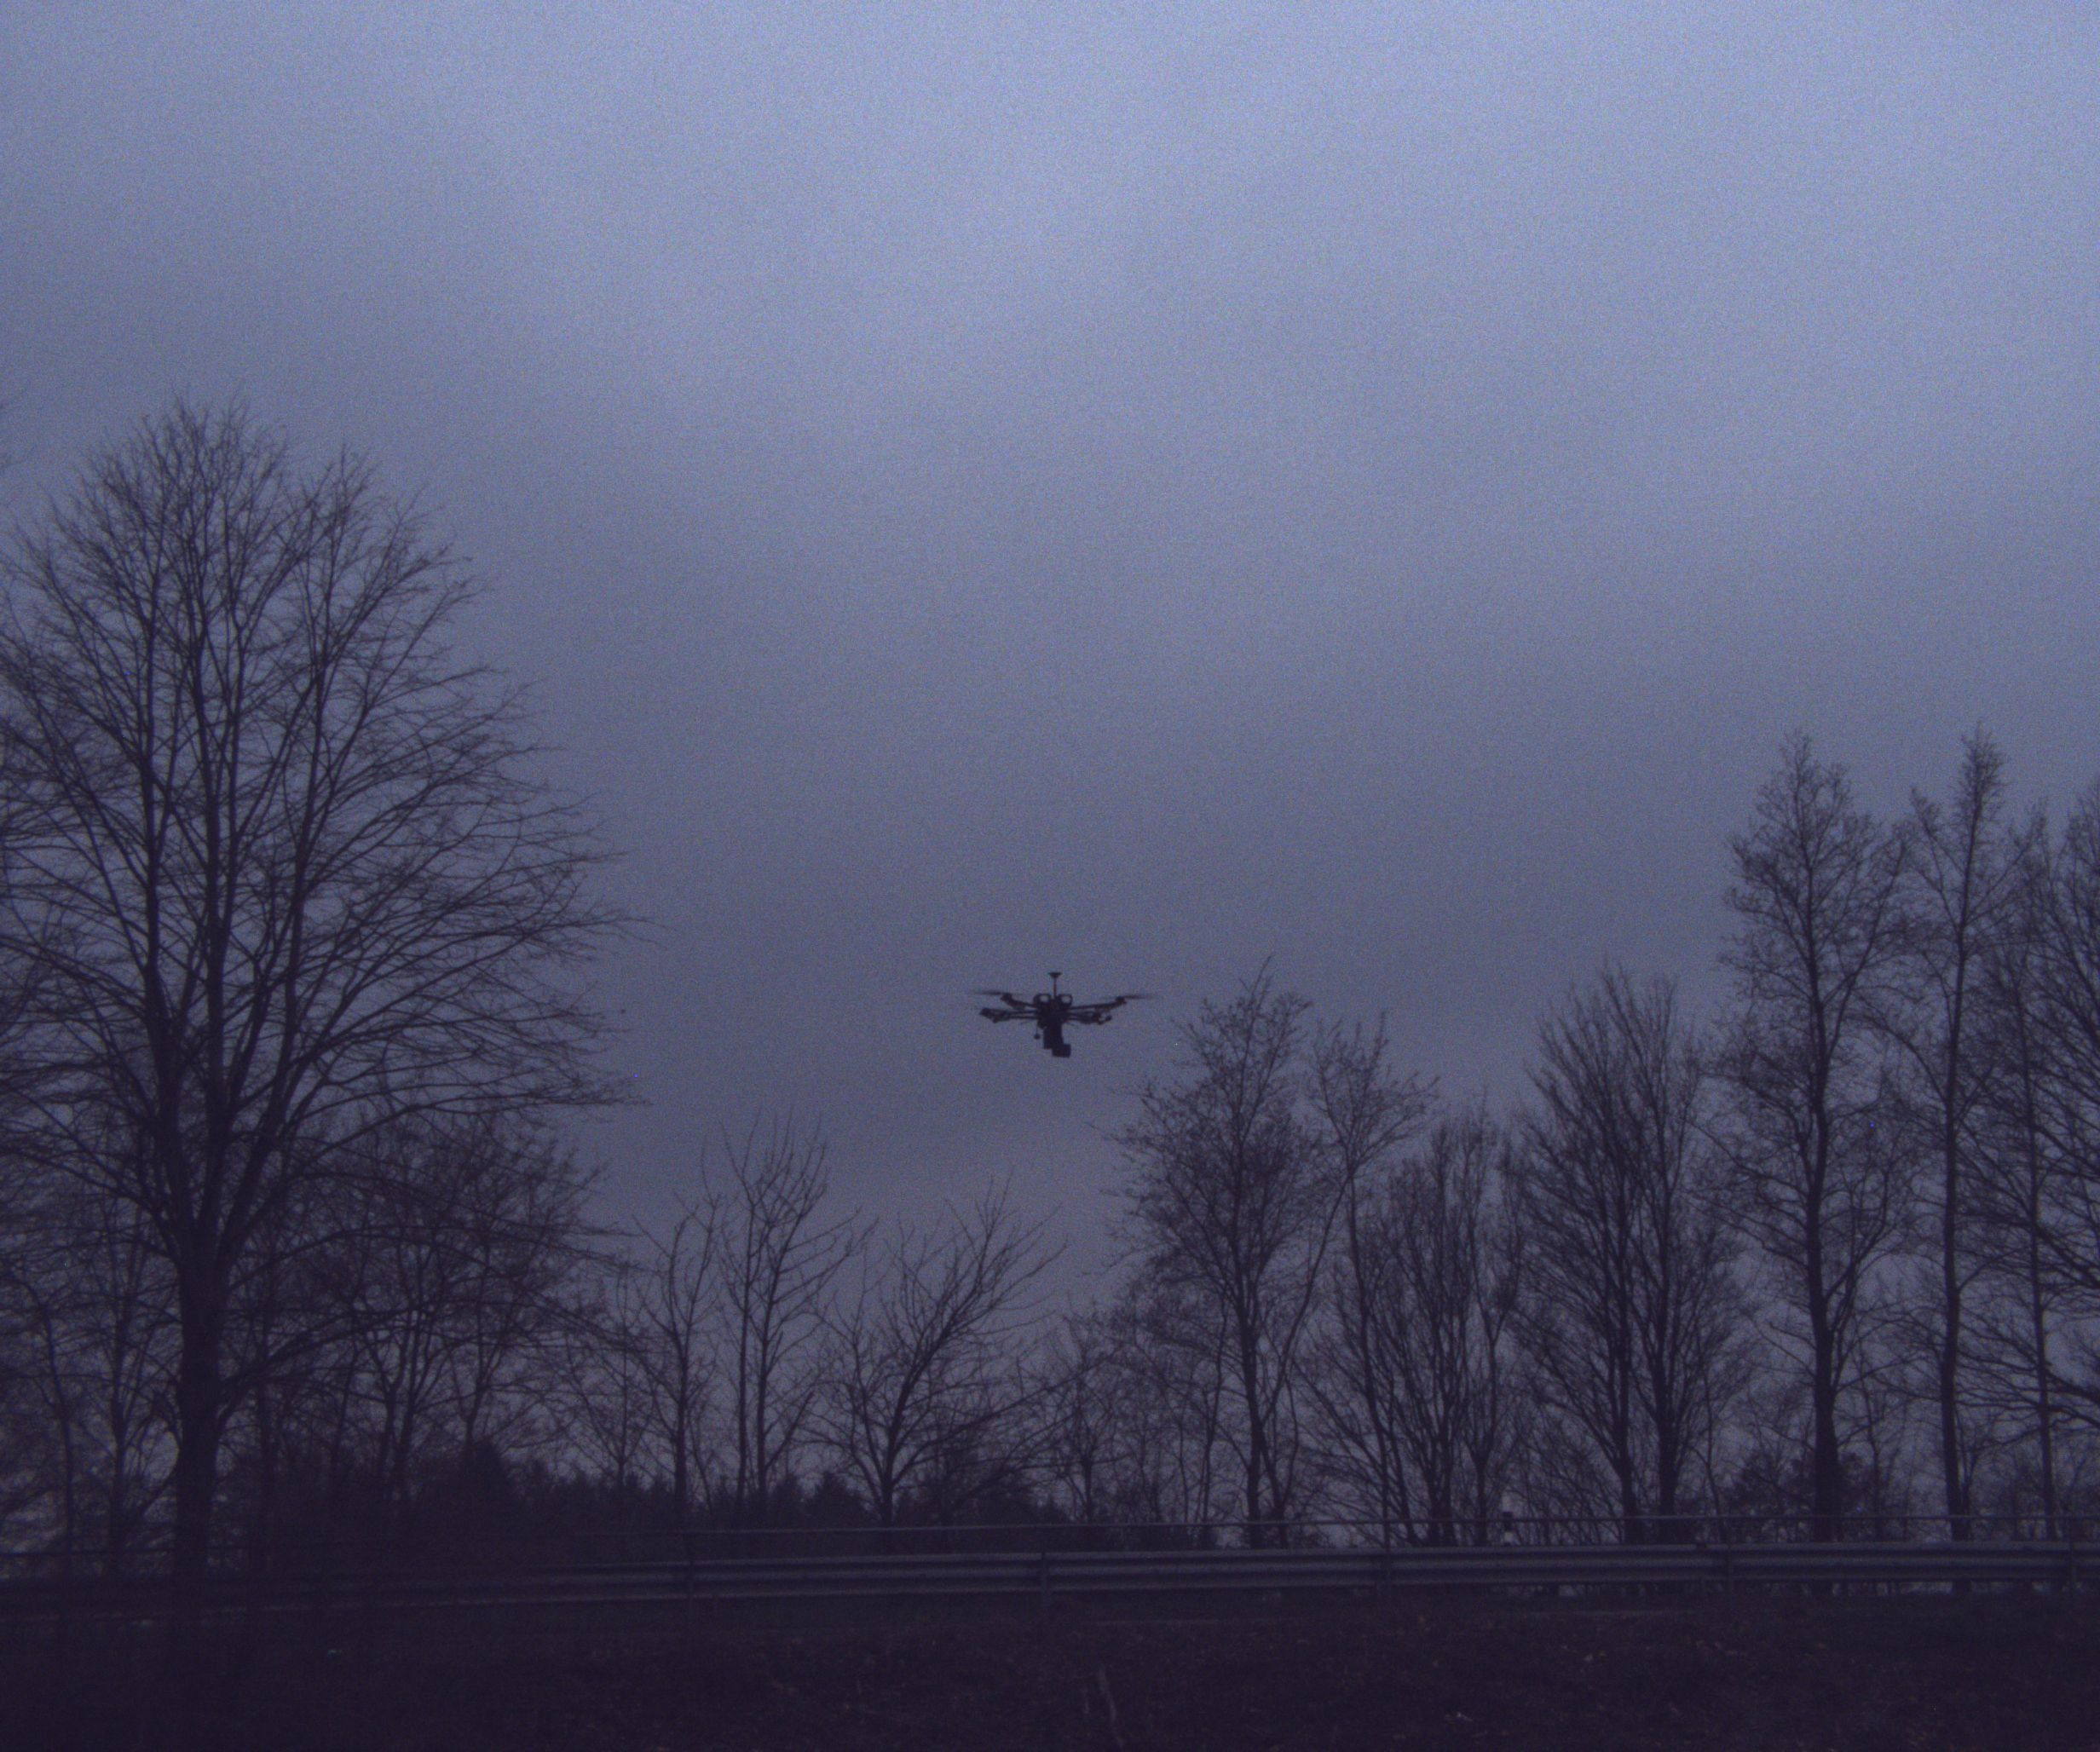Drohne: (938, 933, 1165, 1093)
